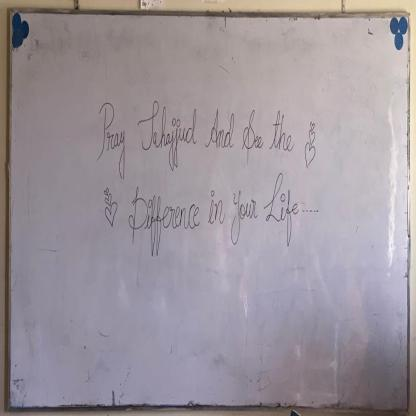Handwritten text: (94, 91, 298, 169), (128, 171, 298, 261)
Whiteboard: (10, 6, 411, 415)
